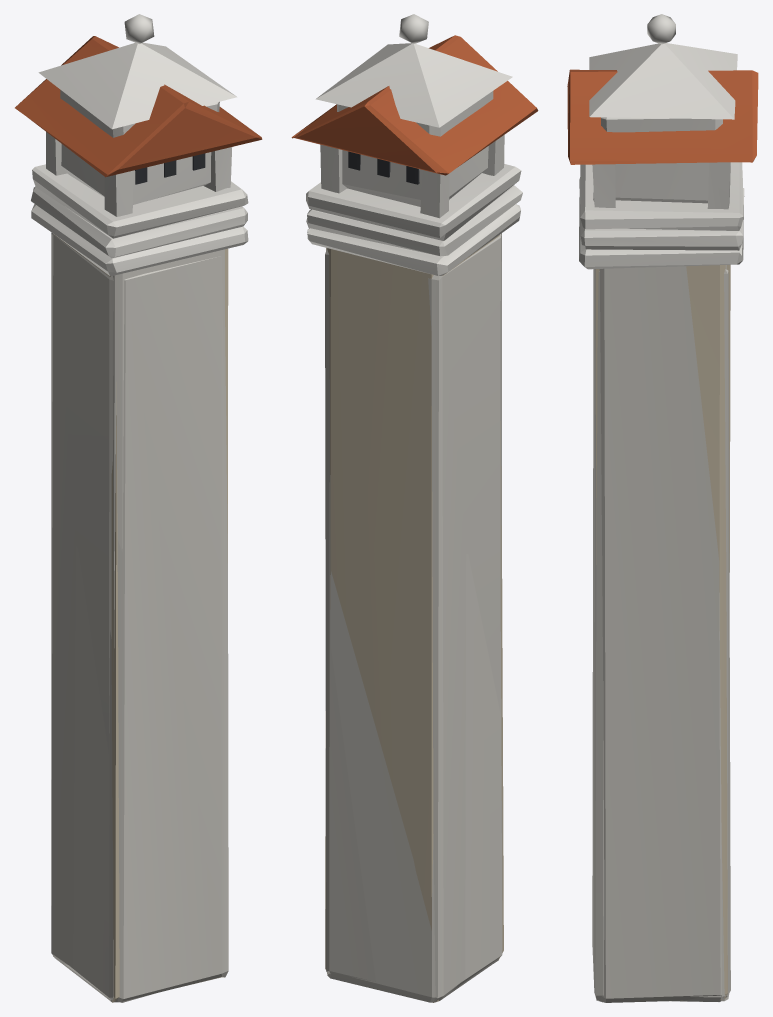
File: chimney.glb
3 renders of one model, left to right at view 1: azimuth 30°, elevation 25°; view 2: azimuth 150°, elevation 25°; view 3: azimuth 270°, elevation 25°, orthographic.
Parts seen in each view (by area): view 1: chimney.v2.mesh, chimney.v0.mesh, chimney.v1.mesh; view 2: chimney.v1.mesh, chimney.v2.mesh, chimney.v0.mesh; view 3: chimney.v0.mesh, chimney.v1.mesh, chimney.v2.mesh.
Part boxes in pixels (<box>): chimney.v2.mesh: <box>31,204,248,1002</box>; chimney.v0.mesh: <box>15,36,262,1002</box>; chimney.v1.mesh: <box>32,14,248,1002</box>; chimney.v1.mesh: <box>306,14,521,1002</box>; chimney.v2.mesh: <box>307,204,520,1001</box>; chimney.v0.mesh: <box>291,35,538,1002</box>; chimney.v0.mesh: <box>567,69,758,1002</box>; chimney.v1.mesh: <box>580,14,743,1002</box>; chimney.v2.mesh: <box>579,188,744,1001</box>.
Size of the model in its own units: 0.5449 by 3.15 by 0.5659.
